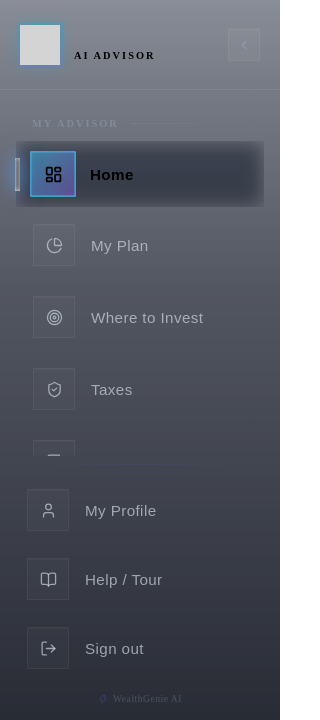
Scenario: Feature Preservation: Zero-Feature-Loss Audit › 6. Sidebar exposes primary navigation and the GenieProof preview › keeps the user in the app and exposes retry when sign-out is not confirmed
Click the button with test id "nav-sign-out" at (140, 648), box left=10, top=614, right=270, bottom=682
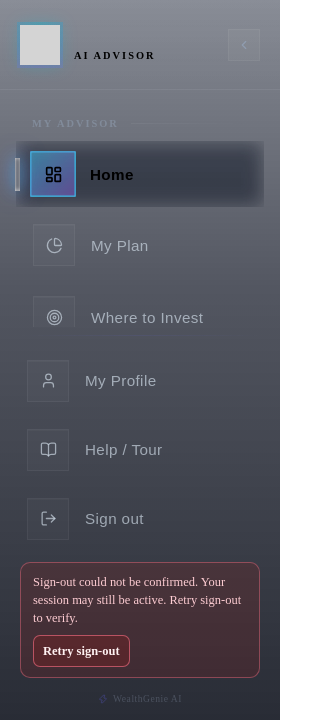
Expected: the button with test id "nav-home" is shown, left=16, top=141, right=264, bottom=207
Now the message shows "session may still be active", box left=33, top=575, right=241, bottom=625
Now the button "Retry sign-out" is shown
Click the button "Retry sign-out" at (81, 651), box left=33, top=635, right=130, bottom=667
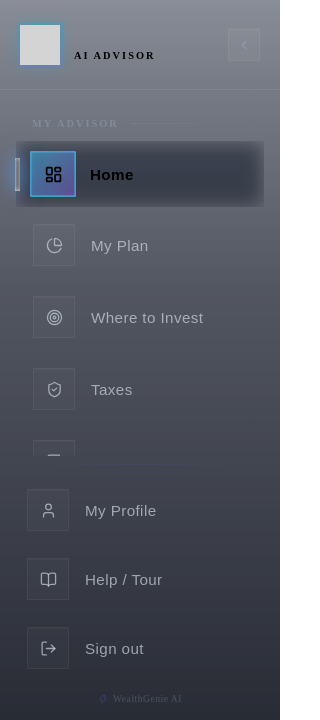
Now the message is gone
